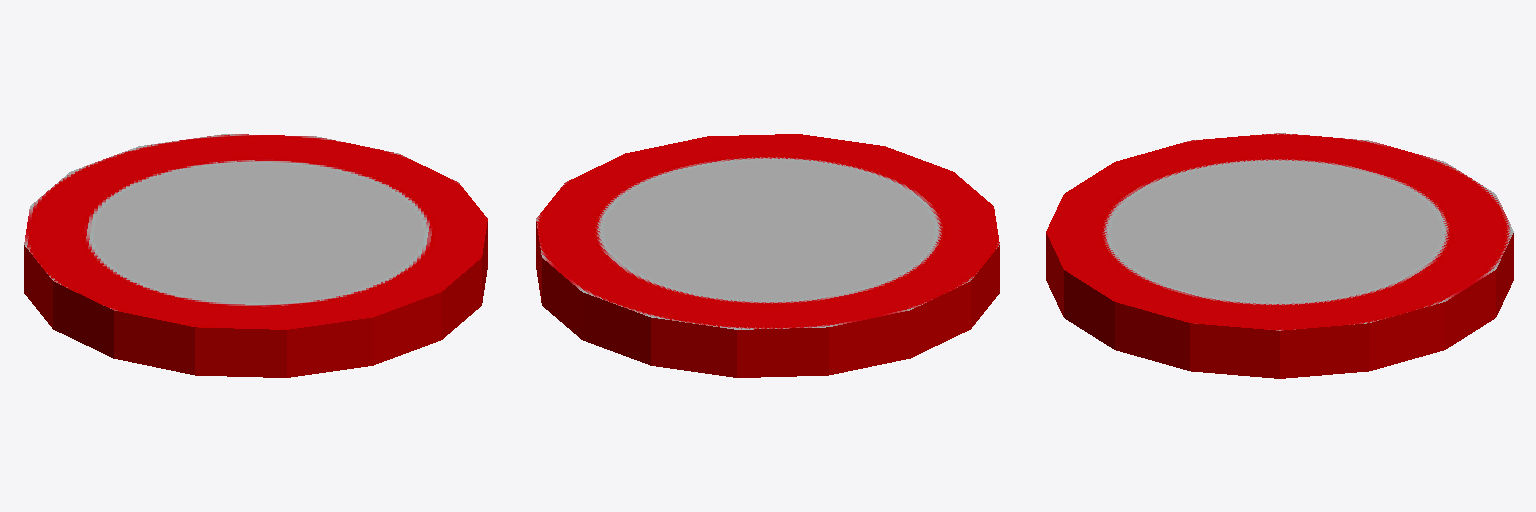
The picture shows the model from 3 angles: view 1: azimuth 30°, elevation 25°; view 2: azimuth 150°, elevation 25°; view 3: azimuth 270°, elevation 25°; orthographic projection.
Parts seen in each view (by area): view 1: Cylinder; view 2: Cylinder; view 3: Cylinder.
Boxes of the visible parts, x1,y1,x2,y2 form: Cylinder: [24, 134, 487, 377]; Cylinder: [536, 134, 999, 377]; Cylinder: [1046, 133, 1513, 378].
Size of the model in its own units: 2.88 by 0.3277 by 2.88.
1 materials, 1 textured.